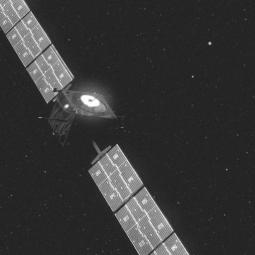smart_1: (12, 24, 152, 215)
